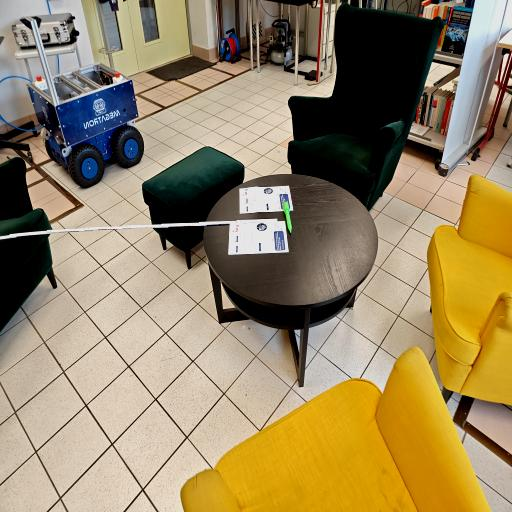Probe-Detection: (283, 201, 292, 233)
